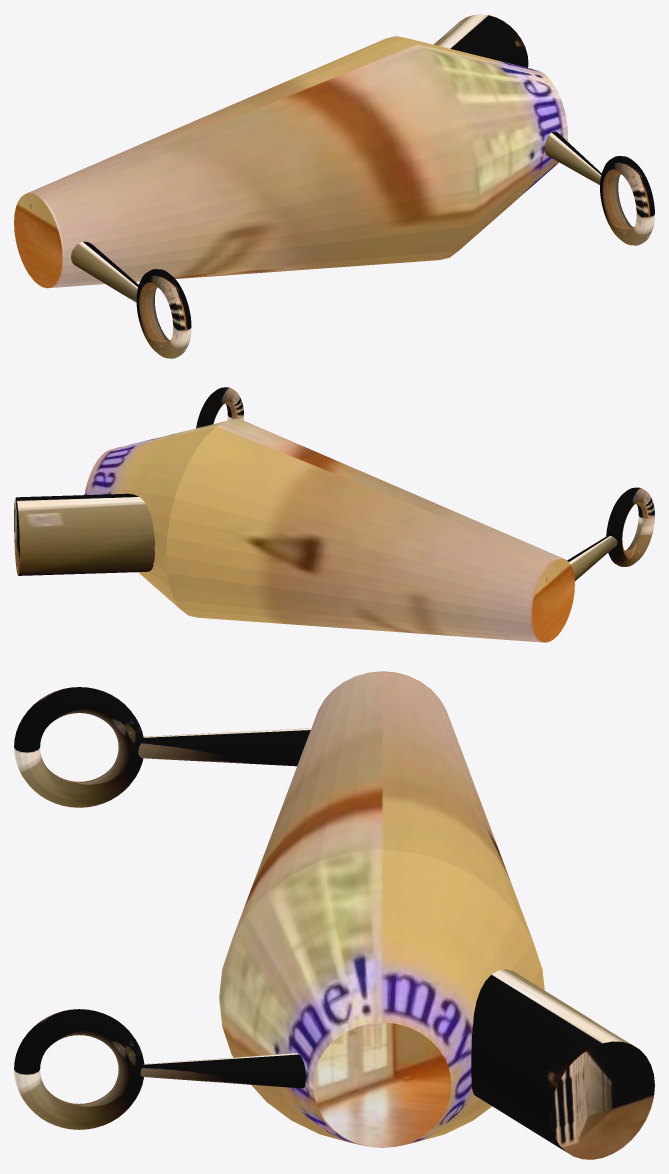
The model's file is mimita-nadelauncher-v1.glb.
3 renders of one model, top to bottom at view 1: azimuth 30°, elevation 25°; view 2: azimuth 150°, elevation 25°; view 3: azimuth 270°, elevation 25°, orthographic. The views are drawn at different scales.
Visible parts, largest first — view 1: Cylinder, Torus, Torus.001, Cylinder.001, Cylinder.002, Cylinder.003; view 2: Cylinder, Cylinder.001, Torus, Torus.001, Cylinder.002; view 3: Cylinder, Cylinder.001, Torus.001, Torus, Cylinder.002, Cylinder.003.
Boxes of the visible parts, bbox=[...] form: Cylinder: bbox=[14, 36, 567, 288]; Torus: bbox=[136, 269, 191, 358]; Torus.001: bbox=[600, 156, 654, 245]; Cylinder.001: bbox=[434, 14, 528, 67]; Cylinder.002: bbox=[71, 241, 138, 302]; Cylinder.003: bbox=[545, 131, 601, 184]; Cylinder: bbox=[84, 419, 574, 642]; Cylinder.001: bbox=[14, 493, 154, 575]; Torus: bbox=[606, 487, 654, 566]; Torus.001: bbox=[196, 387, 243, 428]; Cylinder.002: bbox=[567, 535, 617, 581]; Cylinder: bbox=[219, 671, 544, 1147]; Cylinder.001: bbox=[471, 969, 654, 1159]; Torus.001: bbox=[14, 1009, 144, 1129]; Torus: bbox=[14, 687, 143, 807]; Cylinder.002: bbox=[138, 728, 311, 766]; Cylinder.003: bbox=[140, 1053, 305, 1088].
Size of the model in its own units: 4.74 by 1.71 by 3.36.
Materials: 2 (2 with a texture image).
